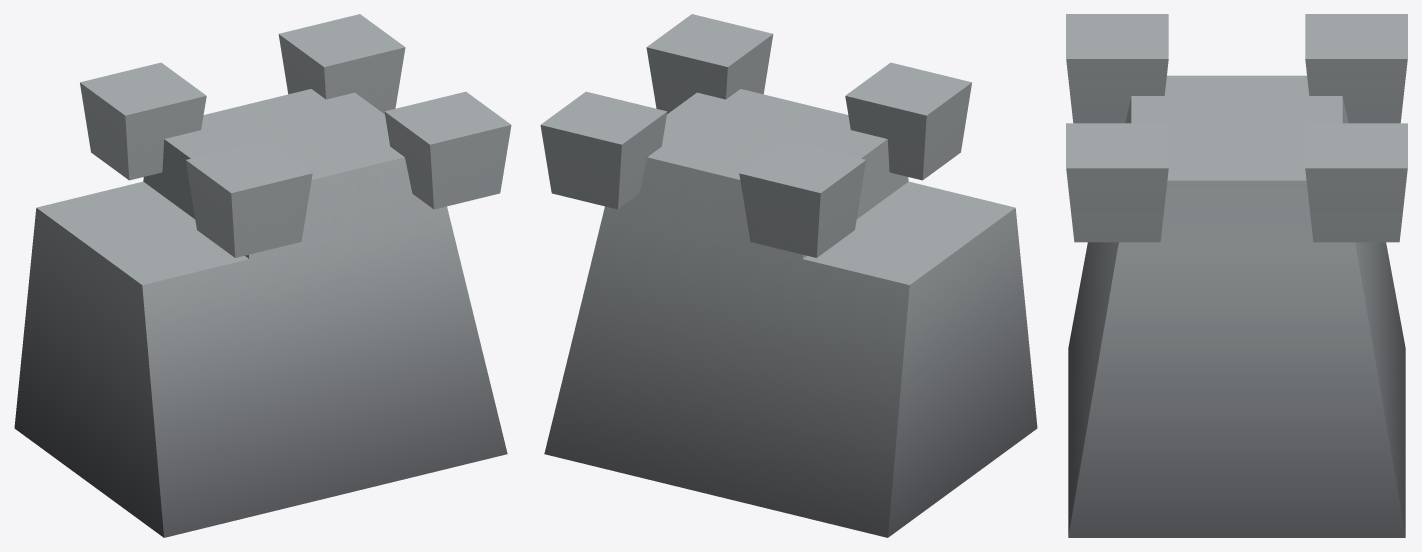
Rendered from SM_WallEnd_Rampart.fbx.
The picture shows the model from 3 angles, left to right: view 1: azimuth 30°, elevation 25°; view 2: azimuth 150°, elevation 25°; view 3: azimuth 270°, elevation 25°; orthographic projection. The views are drawn at different scales.
Parts seen in each view (by area): view 1: SM_WallEnd_Rampart; view 2: SM_WallEnd_Rampart; view 3: SM_WallEnd_Rampart.
Part boxes in pixels (box(x1,y1,x2,y2)): SM_WallEnd_Rampart: box(14, 14, 511, 537); SM_WallEnd_Rampart: box(540, 14, 1037, 537); SM_WallEnd_Rampart: box(1066, 14, 1407, 537).
Bounding box in the file's own units: 162 × 147 × 123.
